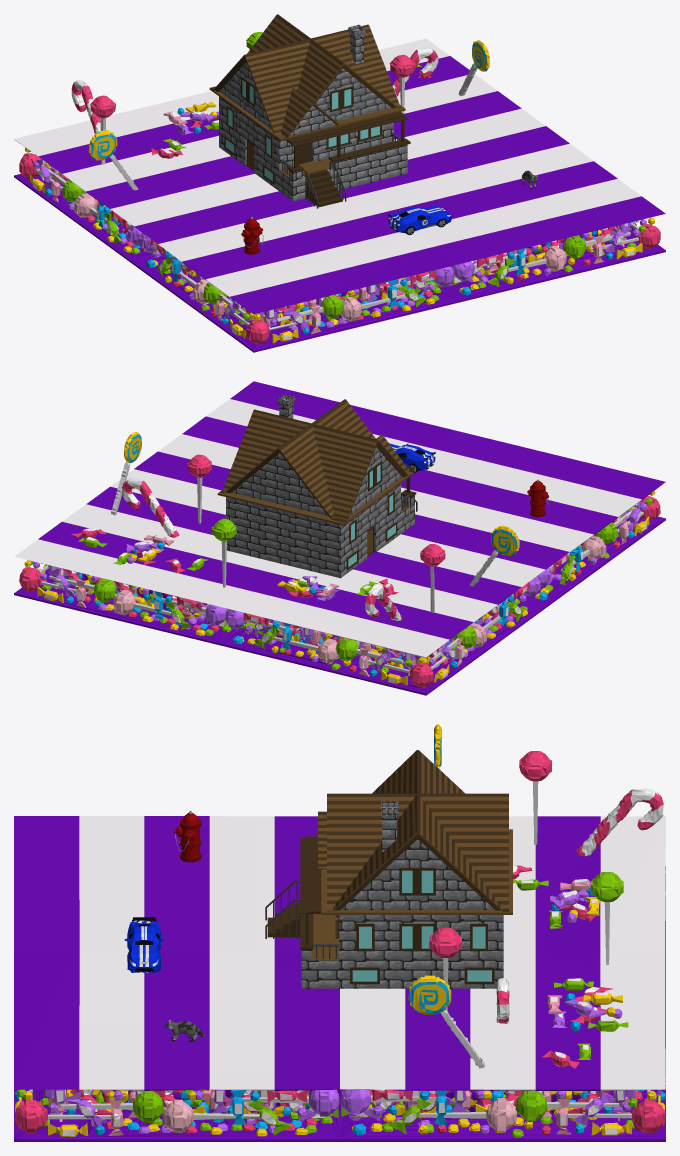
3 views of the same model, one above another, from view 1: azimuth 30°, elevation 25°; view 2: azimuth 150°, elevation 25°; view 3: azimuth 270°, elevation 25° (orthographic). The views are drawn at different scales.
Parts seen in each view (by area): view 1: TERRAIN_CANDY, Cube.586, VEHICLES_RACING_CAR, OBJRANDOM_FIRE_HYDRANT; view 2: TERRAIN_CANDY, Cube.586, VEHICLES_RACING_CAR, OBJRANDOM_FIRE_HYDRANT; view 3: TERRAIN_CANDY, Cube.586, VEHICLES_RACING_CAR, OBJRANDOM_FIRE_HYDRANT.
Boxes of the visible parts, left/top/right/bottom form: TERRAIN_CANDY: left=14, top=31, right=665, bottom=352; Cube.586: left=209, top=14, right=410, bottom=208; VEHICLES_RACING_CAR: left=388, top=205, right=451, bottom=235; OBJRANDOM_FIRE_HYDRANT: left=241, top=217, right=263, bottom=254; TERRAIN_CANDY: left=14, top=381, right=665, bottom=695; Cube.586: left=217, top=394, right=417, bottom=578; VEHICLES_RACING_CAR: left=389, top=443, right=435, bottom=472; OBJRANDOM_FIRE_HYDRANT: left=527, top=479, right=549, bottom=517; TERRAIN_CANDY: left=14, top=724, right=665, bottom=1141; Cube.586: left=265, top=750, right=512, bottom=988; VEHICLES_RACING_CAR: left=124, top=917, right=163, bottom=972; OBJRANDOM_FIRE_HYDRANT: left=174, top=810, right=201, bottom=862.
Bounding box in the file's own units: 4059 × 1694 × 4000.
23 materials, 3 textured.
